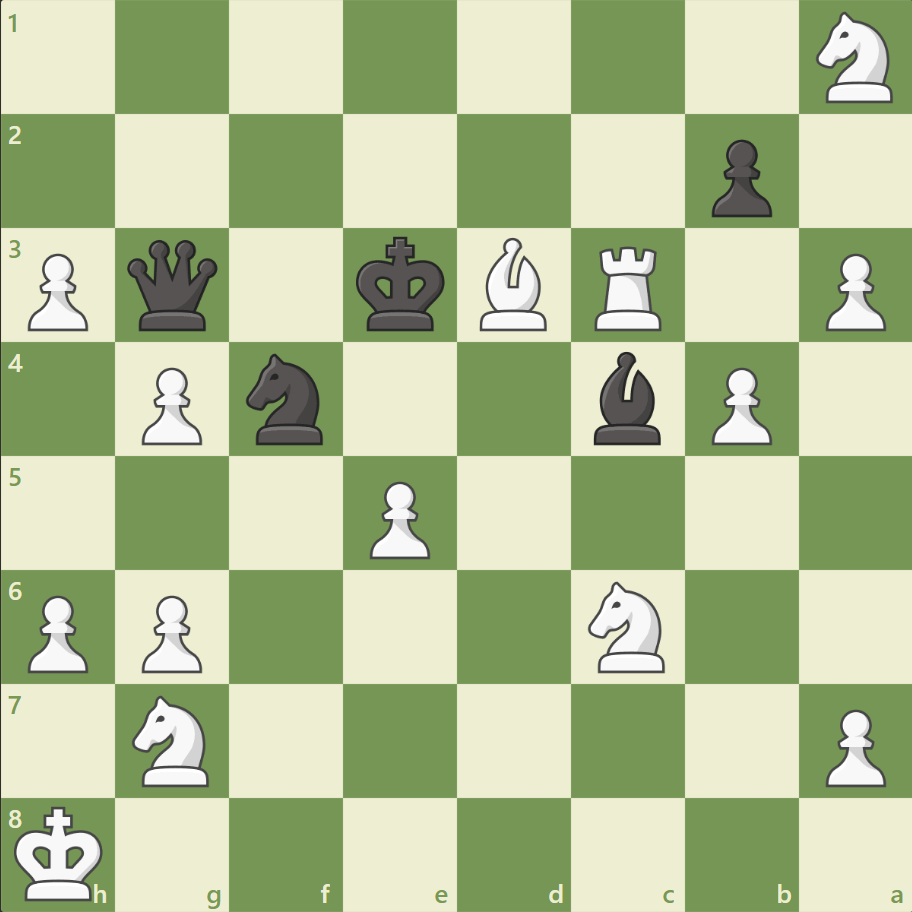B: (471, 233, 555, 336)
K: (11, 798, 111, 906)
N: (124, 688, 222, 791), (806, 7, 903, 110), (579, 575, 676, 677)
P: (133, 586, 208, 677), (20, 586, 95, 677), (701, 359, 776, 450), (133, 359, 208, 450), (20, 246, 95, 337), (815, 700, 889, 791), (361, 473, 435, 564), (815, 246, 889, 337)
R: (587, 239, 670, 336)
b: (585, 347, 669, 449)
k: (351, 231, 451, 339)
n: (238, 348, 335, 450)
p: (701, 132, 776, 223)
q: (124, 236, 223, 335)
